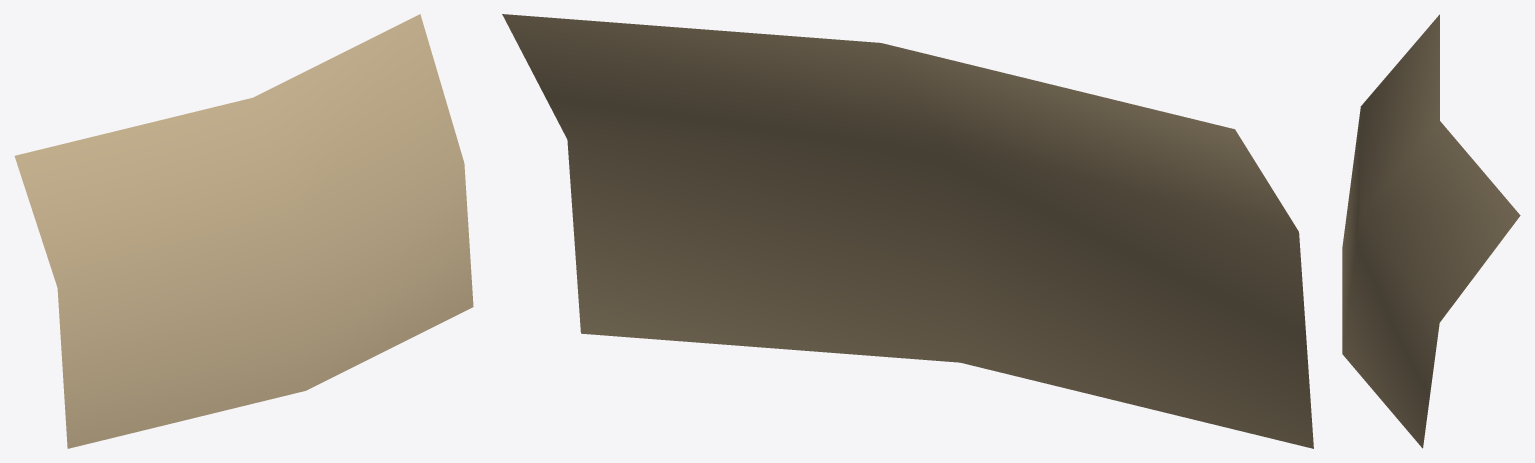
The model's file is GrassPlane_b_OneS_04.fbx.
The picture shows the model from 3 angles, left to right: view 1: azimuth 30°, elevation 25°; view 2: azimuth 150°, elevation 25°; view 3: azimuth 270°, elevation 25°; orthographic projection. The views are drawn at different scales.
Parts seen in each view (by area): view 1: GrassPlane_b_OneS_04; view 2: GrassPlane_b_OneS_04; view 3: GrassPlane_b_OneS_04.
Part boxes in pixels (bbox=[...]): GrassPlane_b_OneS_04: bbox=[14, 14, 473, 448]; GrassPlane_b_OneS_04: bbox=[502, 14, 1313, 448]; GrassPlane_b_OneS_04: bbox=[1342, 14, 1520, 448].
Size of the model in its own units: 114 by 61.69 by 42.67.
